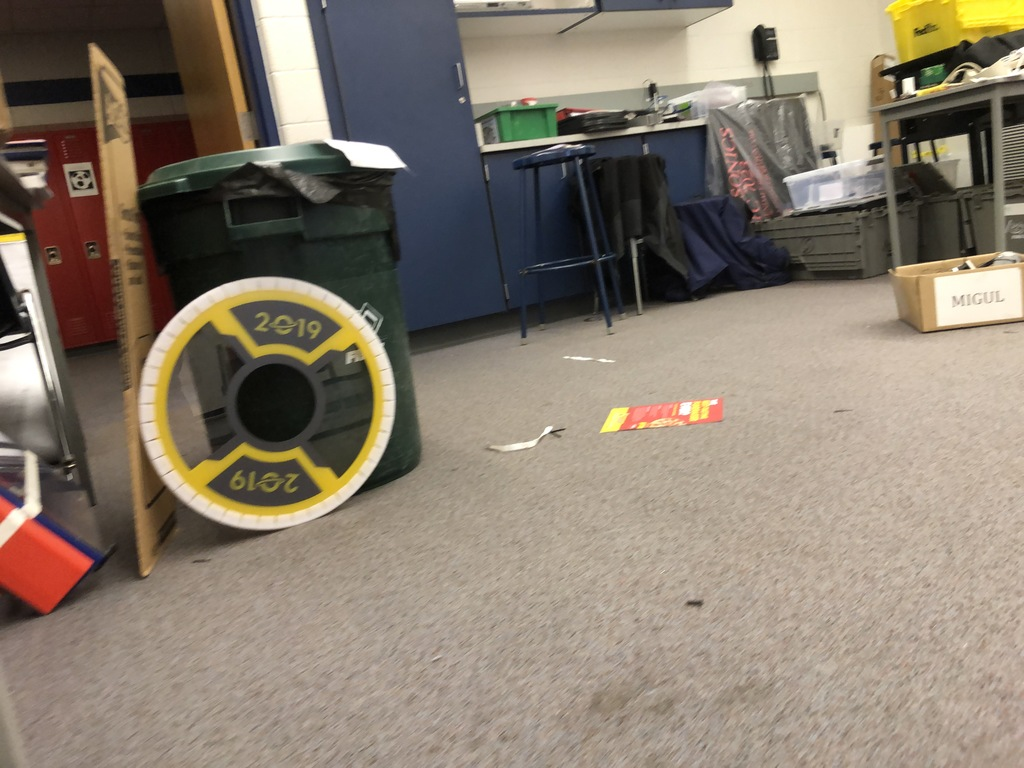hatch_panel: (128, 264, 405, 544)
